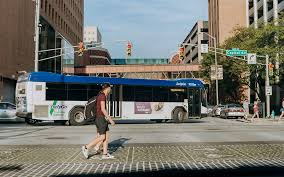bus: (14, 69, 208, 125)
